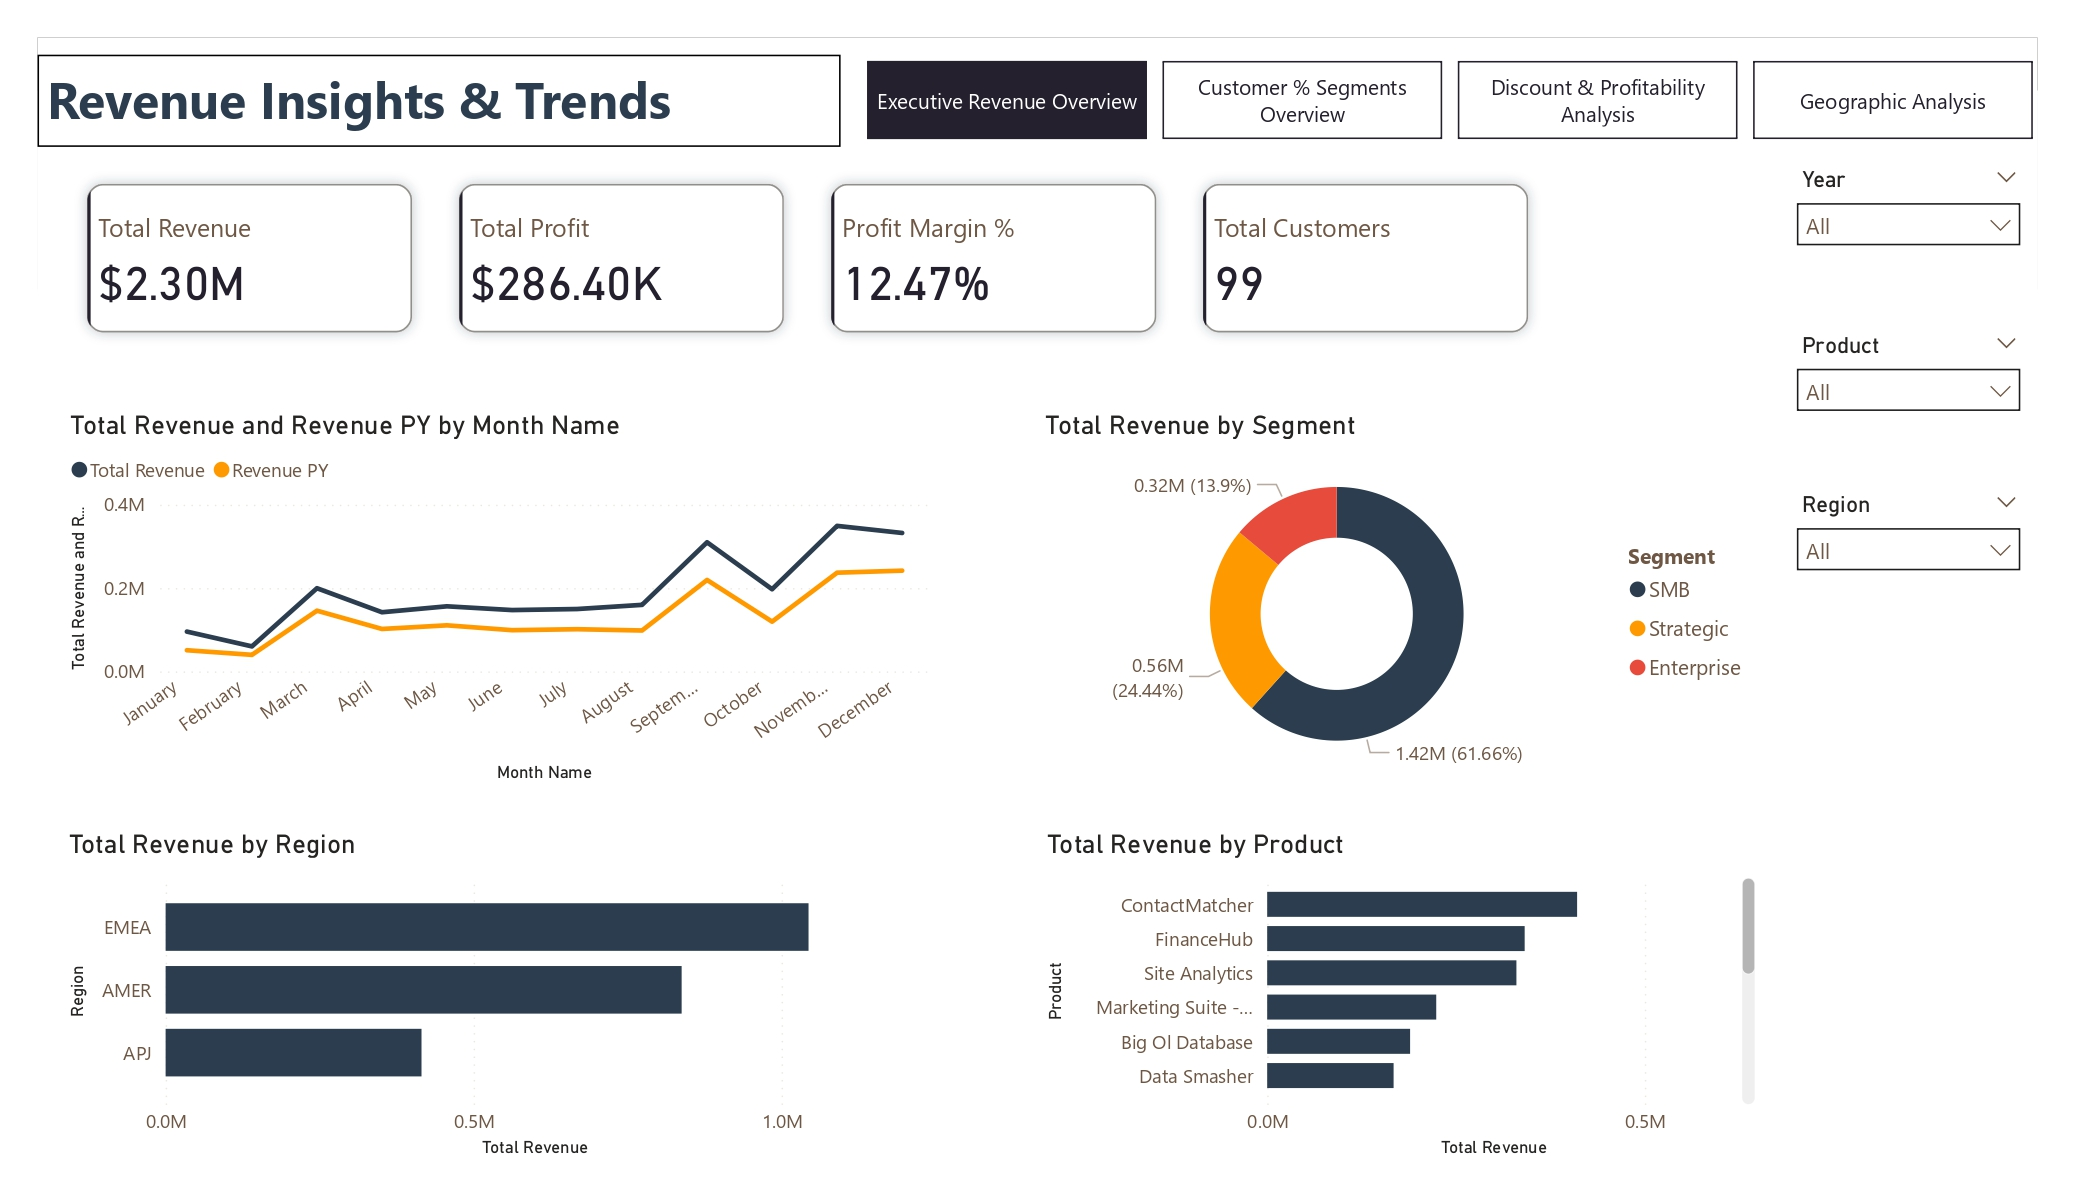

The page's visual inventory and layout, read from the dashboard file:
{"tool":"powerbi","page":{"name":"Executive Revenue Overview","canvas":[1280,720],"ordinal":1},"visuals":[{"type":"cardVisual","fields":{"Data":["_Measures.Total Revenue","_Measures.Total Profit","_Measures.Profit Margin %","_Measures.Total Customers"]},"box":[16.1,77.8,956.8,127.7],"z":0},{"type":"lineChart","fields":{"Category":["Dim_Dates.Month Name"],"Y":["_Measures.Total Revenue","_Measures.Revenue PY"]},"box":[16.1,237.7,559.1,243.6],"z":1000},{"type":"donutChart","fields":{"Y":["_Measures.Total Revenue"],"Category":["Dim_Customer.Segment"]},"box":[639.8,237.7,463.7,243.6],"z":2000},{"type":"clusteredBarChart","fields":{"Category":["Dim_Geography.Region"],"Y":["_Measures.Total Revenue"]},"box":[14.7,506.3,559.1,214.2],"z":3000},{"type":"clusteredBarChart","fields":{"Category":["Dim_Product.Product"],"Y":["_Measures.Total Revenue"]},"box":[641.3,506.3,462.2,214.2],"z":4000},{"type":"slicer","fields":{"Values":["Dim_Dates.Year"]},"box":[1116,77.7,162.9,73.4],"z":5000,"group":"g1"},{"type":"textbox","box":[0,10.6,514,59.1],"z":6000},{"type":"slicer","fields":{"Values":["Dim_Geography.Region"]},"box":[1116,286.1,162.9,73.4],"z":7000,"group":"g1"},{"type":"slicer","fields":{"Values":["Dim_Product.Product"]},"box":[1116,183.4,162.9,73.4],"z":8000,"group":"g1"},{"type":"group","id":"g1","title":"Group 1","box":[1116,77.7,162.9,281.7],"z":8001},{"type":"pageNavigator","box":[531.5,15.1,748,50],"z":8004}]}

Visuals, with their boxes on the page's 1280x720 design canvas (x1, y1, x2, y2). These are canvas units, not pixel positions in the 2075x1200 screenshot, which may show the page scaled, cropped or inside an application window:
cardVisual - _Measures.Total Revenue x _Measures.Total Profit: {"x1": 16, "y1": 78, "x2": 973, "y2": 206}
lineChart - Dim_Dates.Month Name x _Measures.Total Revenue: {"x1": 16, "y1": 238, "x2": 575, "y2": 481}
donutChart - _Measures.Total Revenue x Dim_Customer.Segment: {"x1": 640, "y1": 238, "x2": 1104, "y2": 481}
clusteredBarChart - Dim_Geography.Region x _Measures.Total Revenue: {"x1": 15, "y1": 506, "x2": 574, "y2": 720}
clusteredBarChart - Dim_Product.Product x _Measures.Total Revenue: {"x1": 641, "y1": 506, "x2": 1104, "y2": 720}
slicer - Dim_Dates.Year: {"x1": 1116, "y1": 78, "x2": 1279, "y2": 151}
textbox: {"x1": 0, "y1": 11, "x2": 514, "y2": 70}
slicer - Dim_Geography.Region: {"x1": 1116, "y1": 286, "x2": 1279, "y2": 360}
slicer - Dim_Product.Product: {"x1": 1116, "y1": 183, "x2": 1279, "y2": 257}
"Group 1" group: {"x1": 1116, "y1": 78, "x2": 1279, "y2": 359}
pageNavigator: {"x1": 532, "y1": 15, "x2": 1280, "y2": 65}
